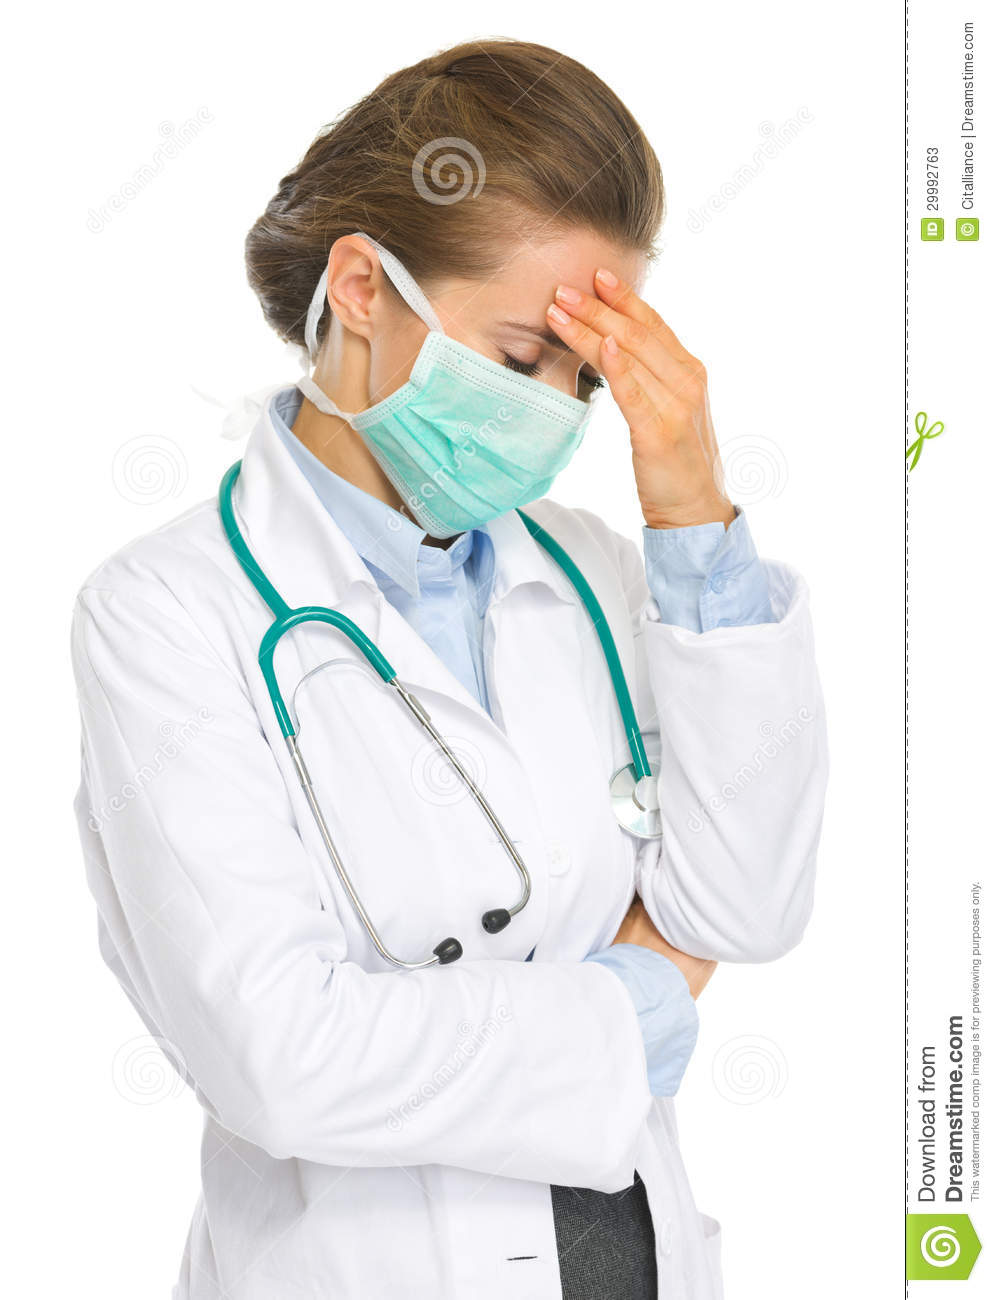mask: (342, 336, 591, 540)
